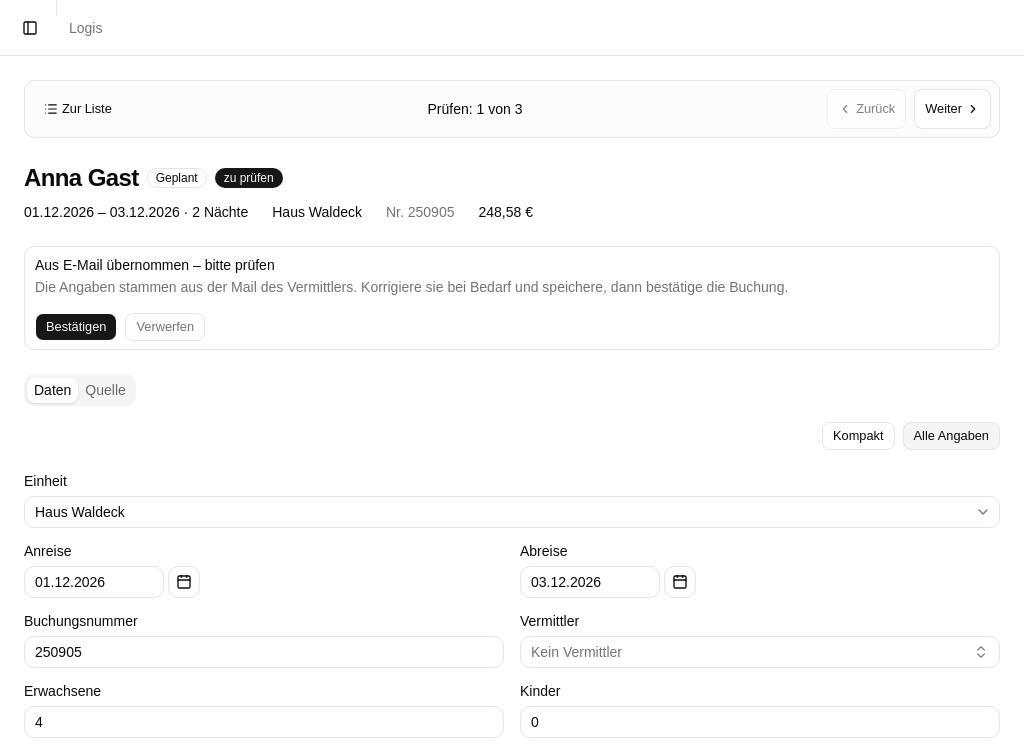
Test: Review mode › moves on after each decision until all are done
This screenshot has width=1024, height=754.
Expected: the heading "Anna Gast" is shown, [24,162,139,194]
Click the button "Bestätigen" at coordinates (76, 327), box [35,313,118,341]
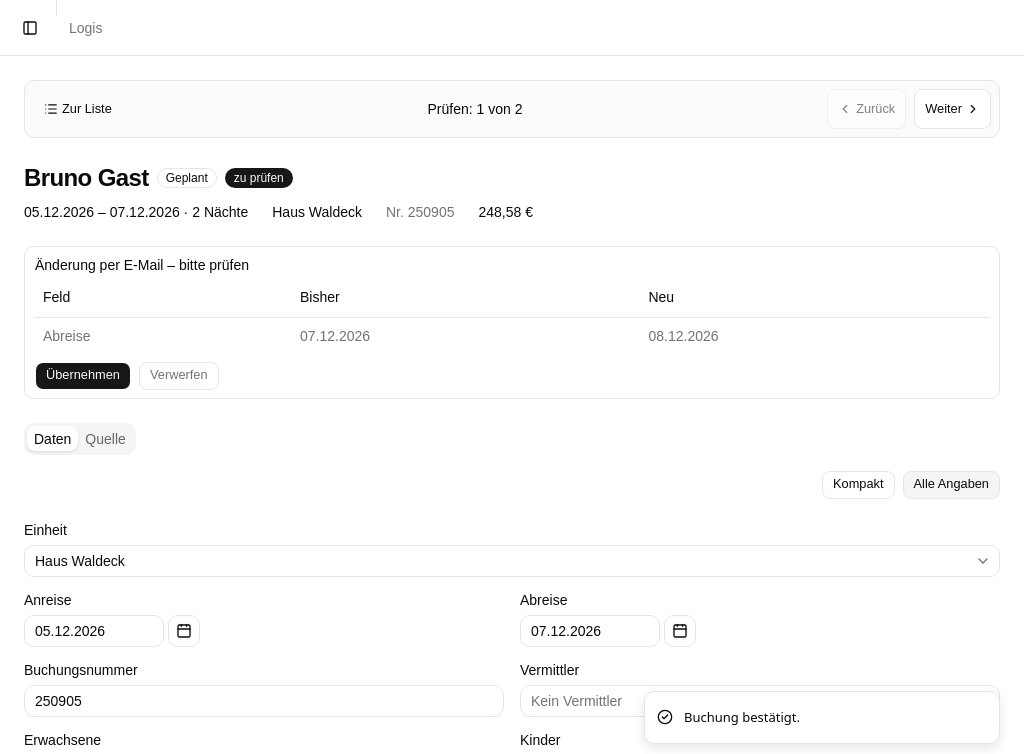
Result: the heading "Bruno Gast" is shown at [24,162,149,194]
Result: the navigation bar "Prüfen" shows "1 von 2" at [476,101,522,117]
Result: the table named "Vorgeschlagene Änderung" shows "08.12.2026" at [648,328,719,344]
Click the button "Übernehmen" at coordinates (83, 376), box [35,362,131,390]
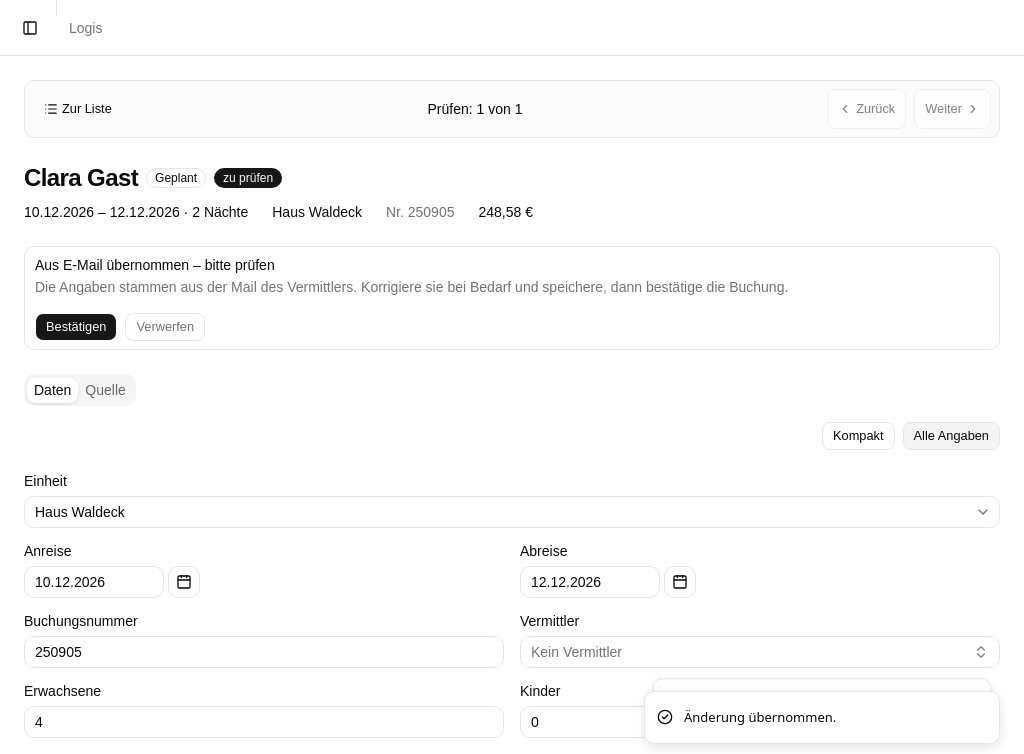
Result: the heading "Clara Gast" is shown at [24,162,138,194]
Result: the navigation bar "Prüfen" shows "1 von 1" at [476,101,522,117]
Click the button "Bestätigen" at coordinates (76, 327), box [35,313,118,341]
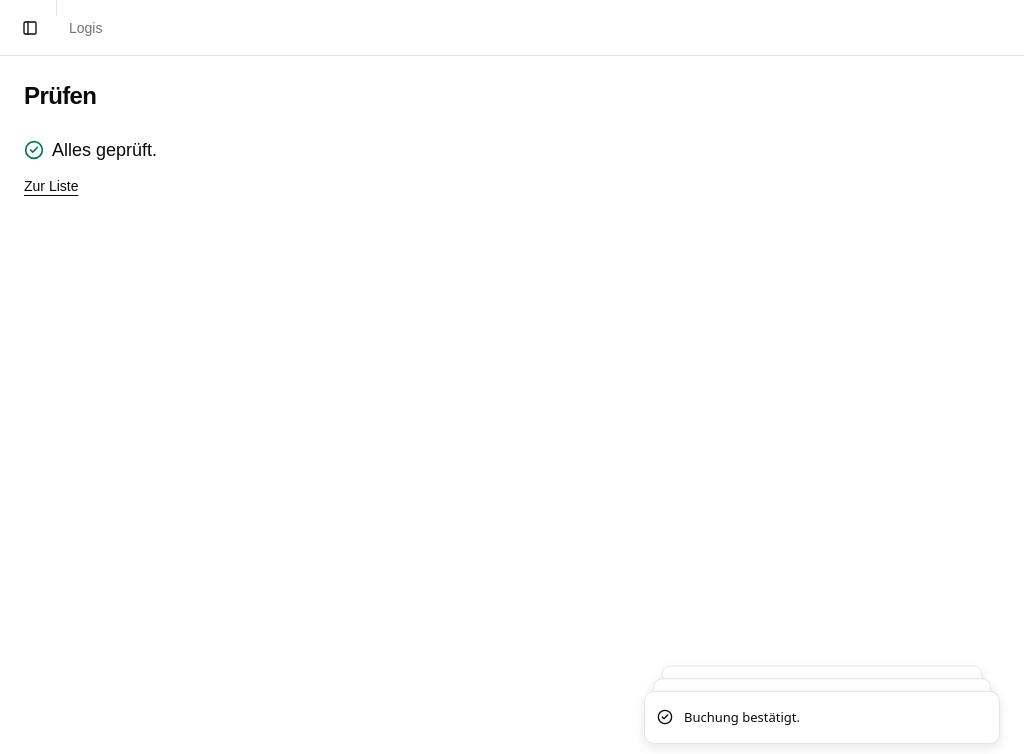
Result: the text "Alles geprüft." is shown at [24,136,157,164]
